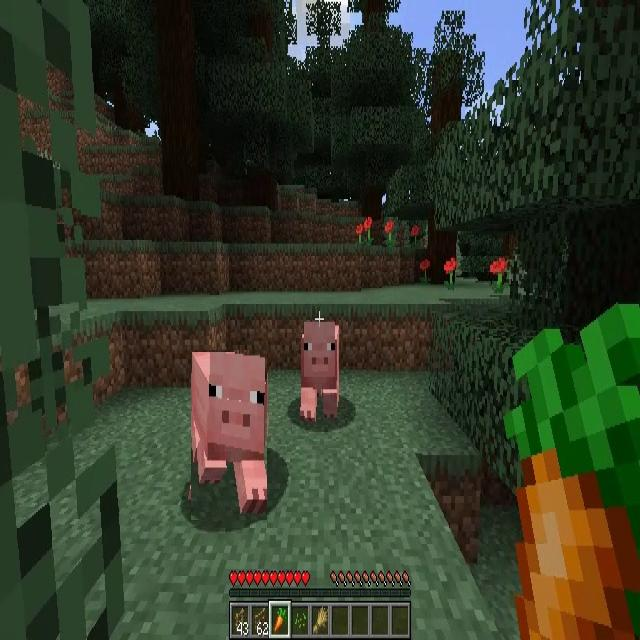pig: (192, 350, 268, 520), (300, 324, 338, 422)
